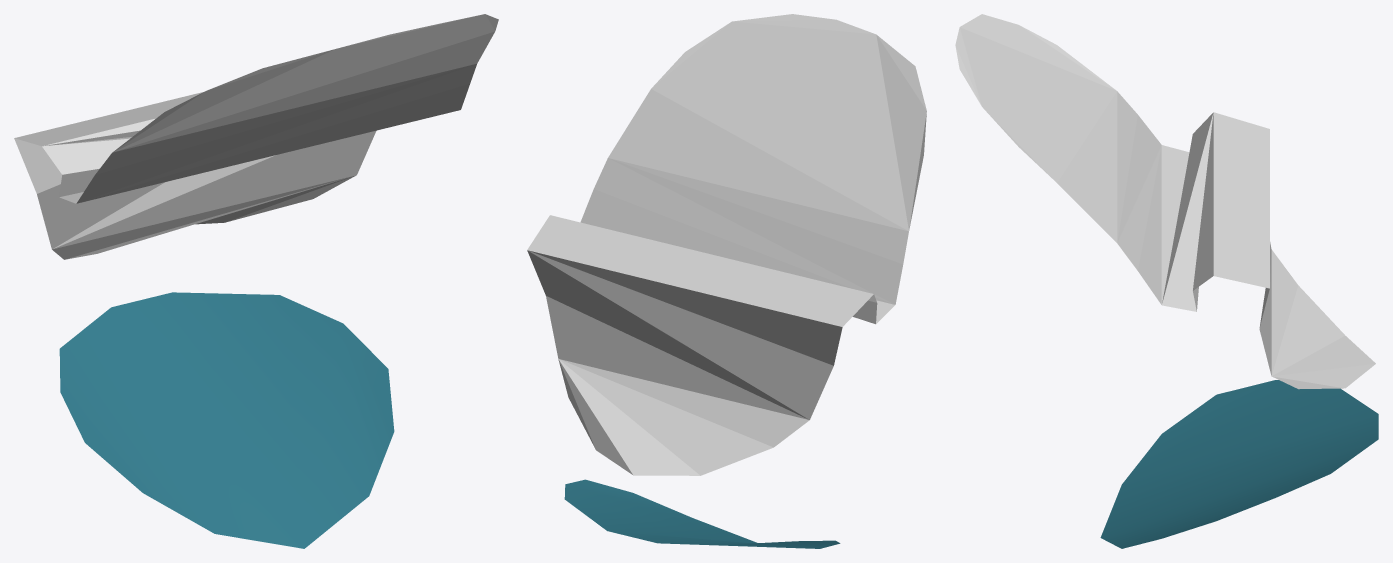
File: tr_hom_visage_interface.max.fbx
3 views of the same model, side by side, from view 1: azimuth 30°, elevation 25°; view 2: azimuth 150°, elevation 25°; view 3: azimuth 270°, elevation 25° (orthographic). The views are drawn at different scales.
Parts seen in each view (by area): view 1: FY_HOM_interfaces_new, Shape01; view 2: Shape01, FY_HOM_interfaces_new; view 3: Shape01, FY_HOM_interfaces_new.
Part boxes in pixels (x1=…): FY_HOM_interfaces_new: x1=59, y1=292, x2=394, y2=548; Shape01: x1=14, y1=14, x2=498, y2=259; Shape01: x1=527, y1=14, x2=926, y2=475; FY_HOM_interfaces_new: x1=564, y1=479, x2=840, y2=548; Shape01: x1=955, y1=14, x2=1375, y2=389; FY_HOM_interfaces_new: x1=1100, y1=380, x2=1378, y2=548.
Bounding box in the file's own units: 0.1582 × 0.2218 × 0.1727.
